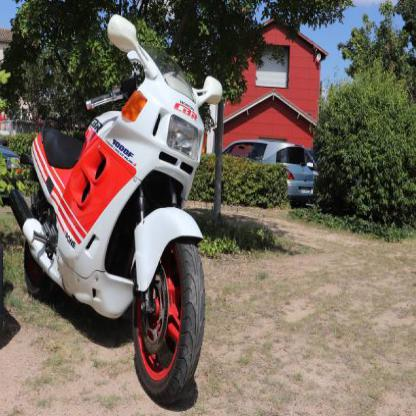Motorcycle: (12, 14, 221, 412)
